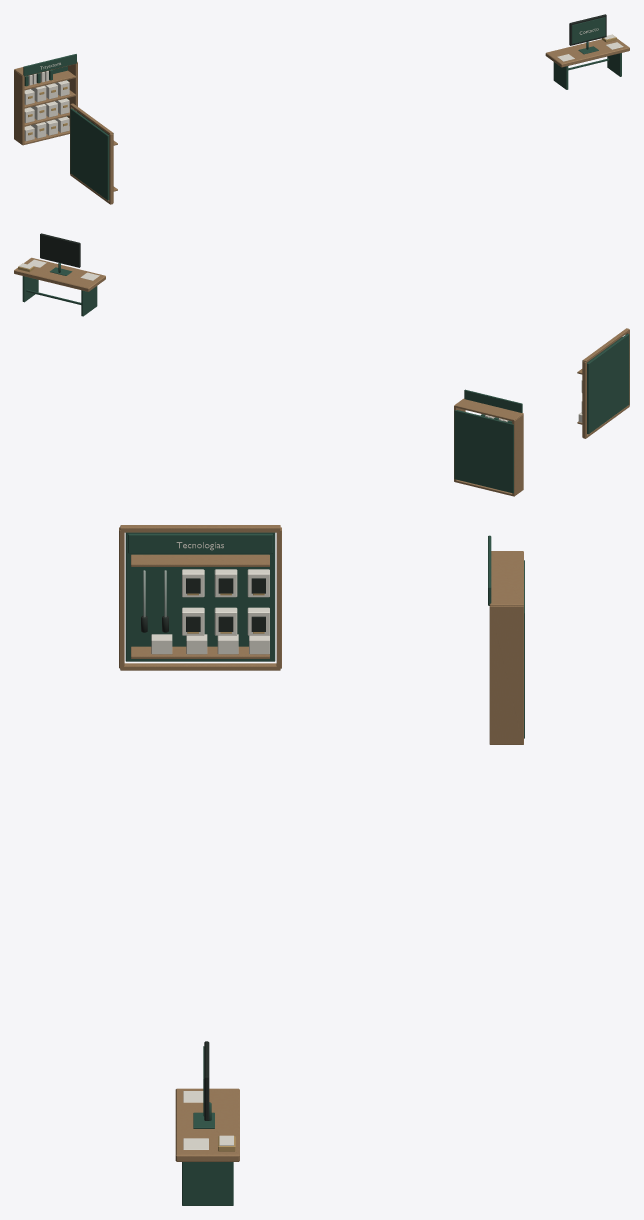
The model's file is workshop-stations-v1.glb.
3 views of the same model, one above another, from view 1: azimuth 30°, elevation 25°; view 2: azimuth 150°, elevation 25°; view 3: azimuth 270°, elevation 25° (orthographic). The views are drawn at different scales.
Parts seen in each view (by area): view 1: station__oak, station__greensteel, station__paper, stationhit__contact, stationhit__trajectory, station__graphite; view 2: station__greensteel, station__oak, station__graphite, stationhit__trajectory, station__paper; view 3: station__oak, station__greensteel, station__paper, stationhit__technologies, station__graphite.
Part boxes in pixels (x1,y1,x2,y2): station__oak: (14,38,629,204); station__greensteel: (24,41,621,200); station__paper: (24,28,623,141); stationhit__contact: (572,17,605,43); stationhit__trajectory: (23,54,76,76); station__graphite: (569,14,606,45); station__greensteel: (22,263,629,493); station__oak: (14,257,629,496); station__graphite: (40,233,80,267); stationhit__trajectory: (464,389,522,412); station__paper: (19,259,582,422); station__oak: (119,525,523,1161); station__greensteel: (125,532,524,1205); station__paper: (151,542,269,1149); stationhit__technologies: (128,533,272,553); station__graphite: (141,578,265,1120).
Size of the model in its own units: 16.95 by 2.52 by 5.57.
Materials: 6 (1 with a texture image).
